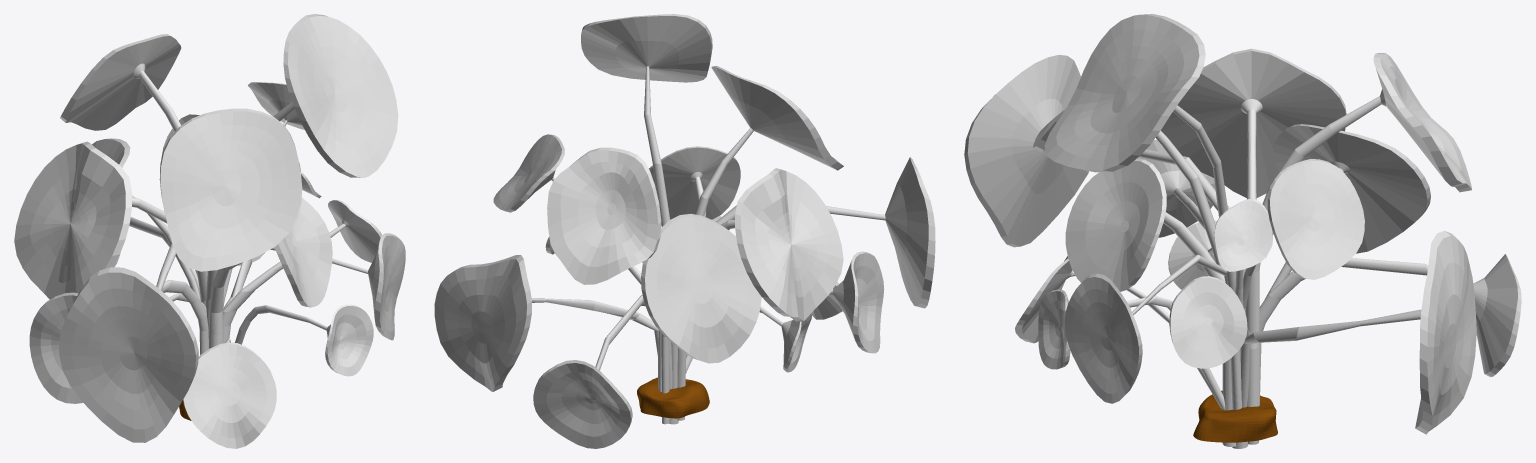
Rendered from Pileapepe_L.fbx.
3 views of the same model, side by side, from view 1: azimuth 30°, elevation 25°; view 2: azimuth 150°, elevation 25°; view 3: azimuth 270°, elevation 25° (orthographic). The views are drawn at different scales.
Parts seen in each view (by area): view 1: Cube.001; view 2: Cube.001; view 3: Cube.001.
Boxes of the visible parts, left/top/right/bottom form: Cube.001: left=14, top=14, right=405, bottom=448; Cube.001: left=434, top=14, right=935, bottom=448; Cube.001: left=964, top=14, right=1521, bottom=448.
Bounding box in the file's own units: 152 × 151 × 167.
